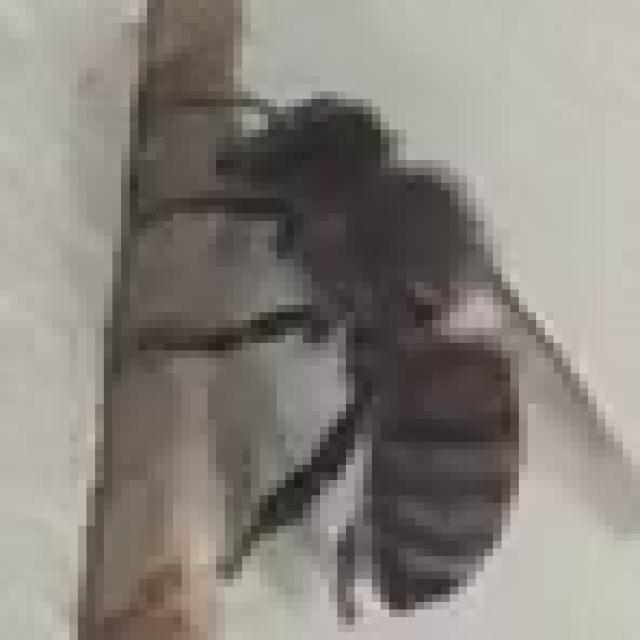honeybee: (137, 87, 563, 593)
